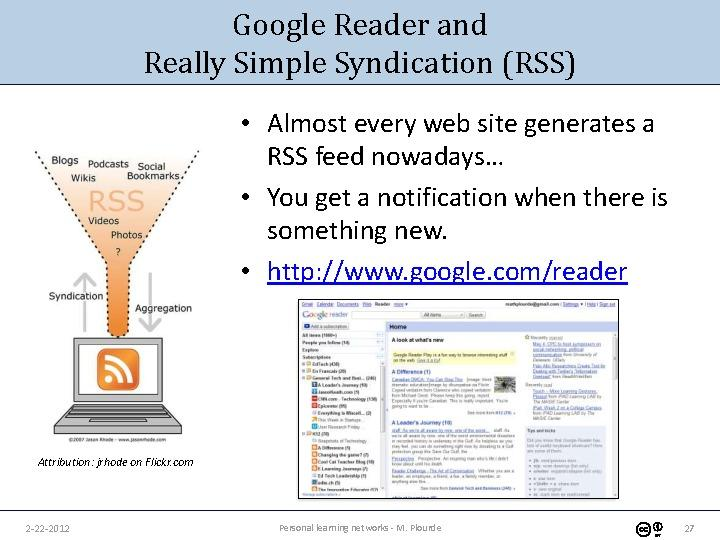paragraph: (233, 104, 720, 243)
title: (133, 5, 594, 92)
